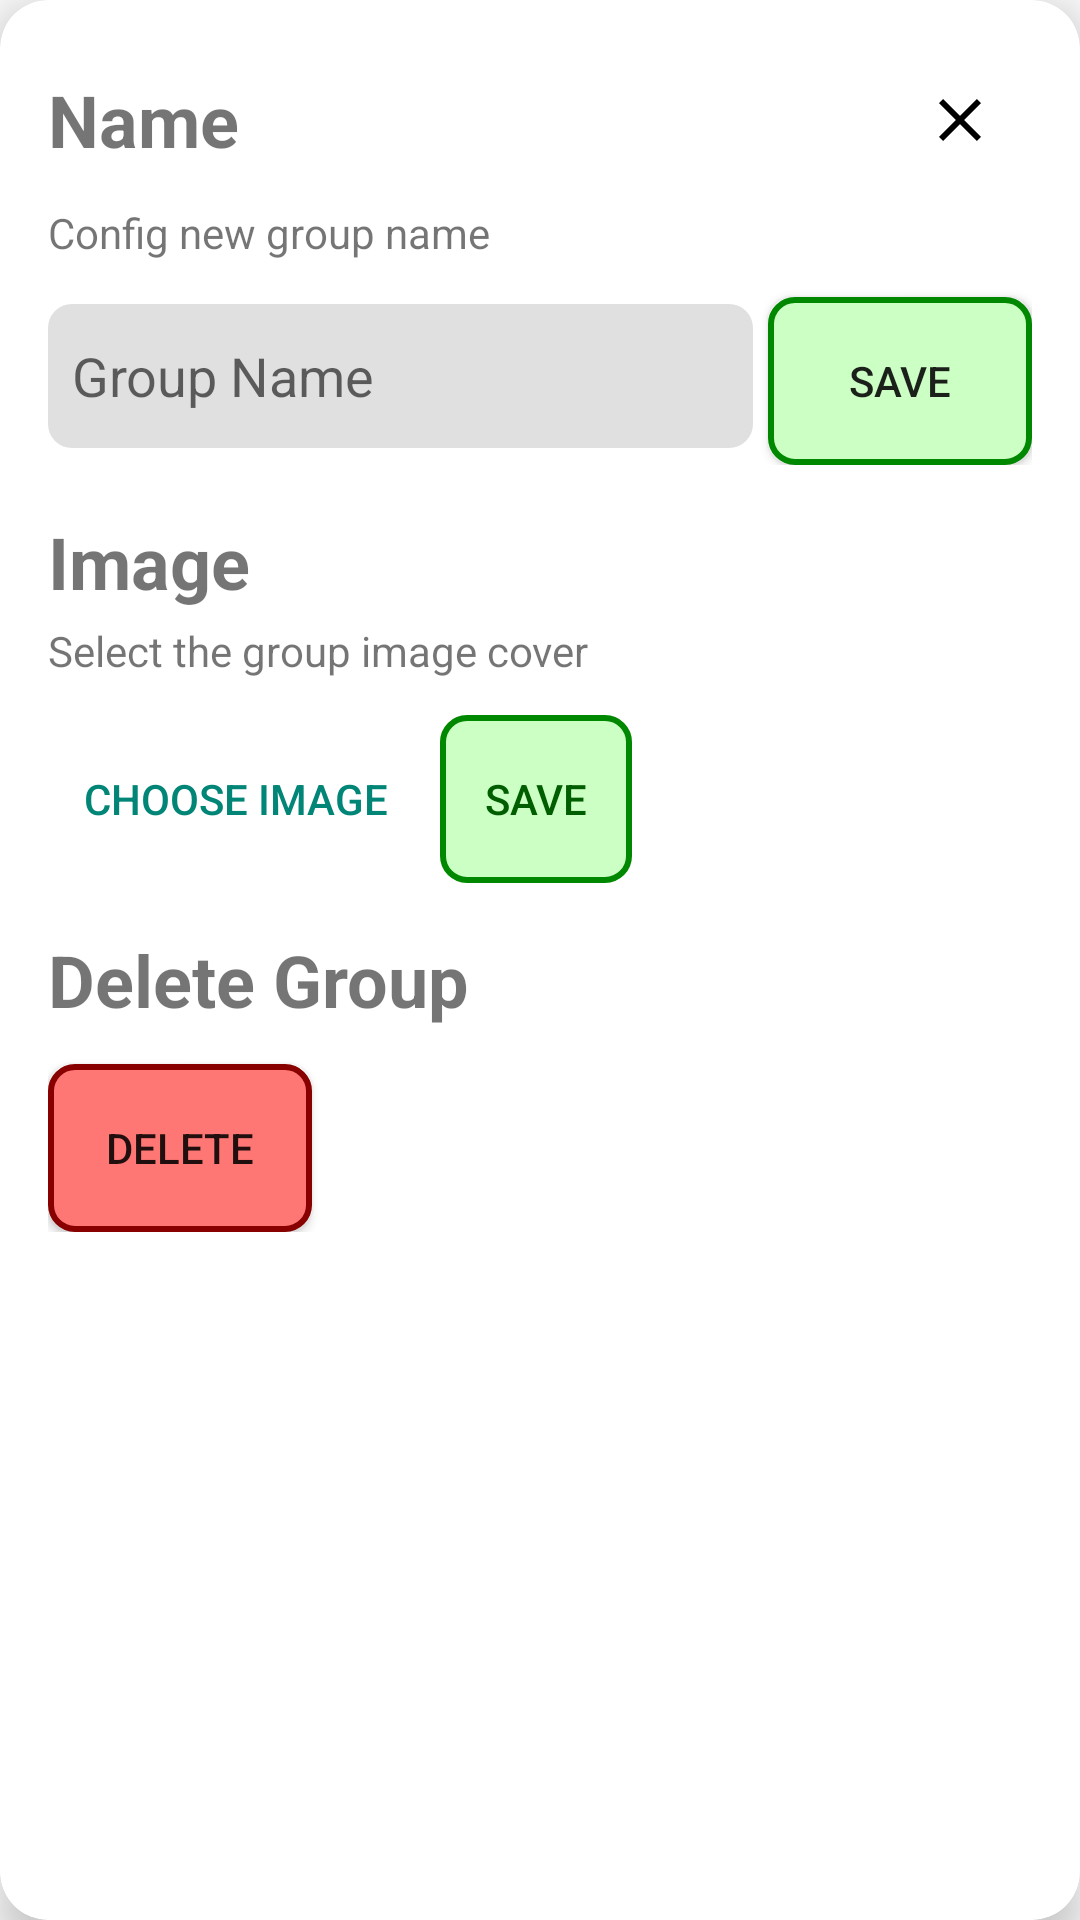

Icon bounding boxes for this 1080×1920 phone screenshot, format region(x1, y1, x2, y2):
Close modal: region(939, 99, 981, 141)
